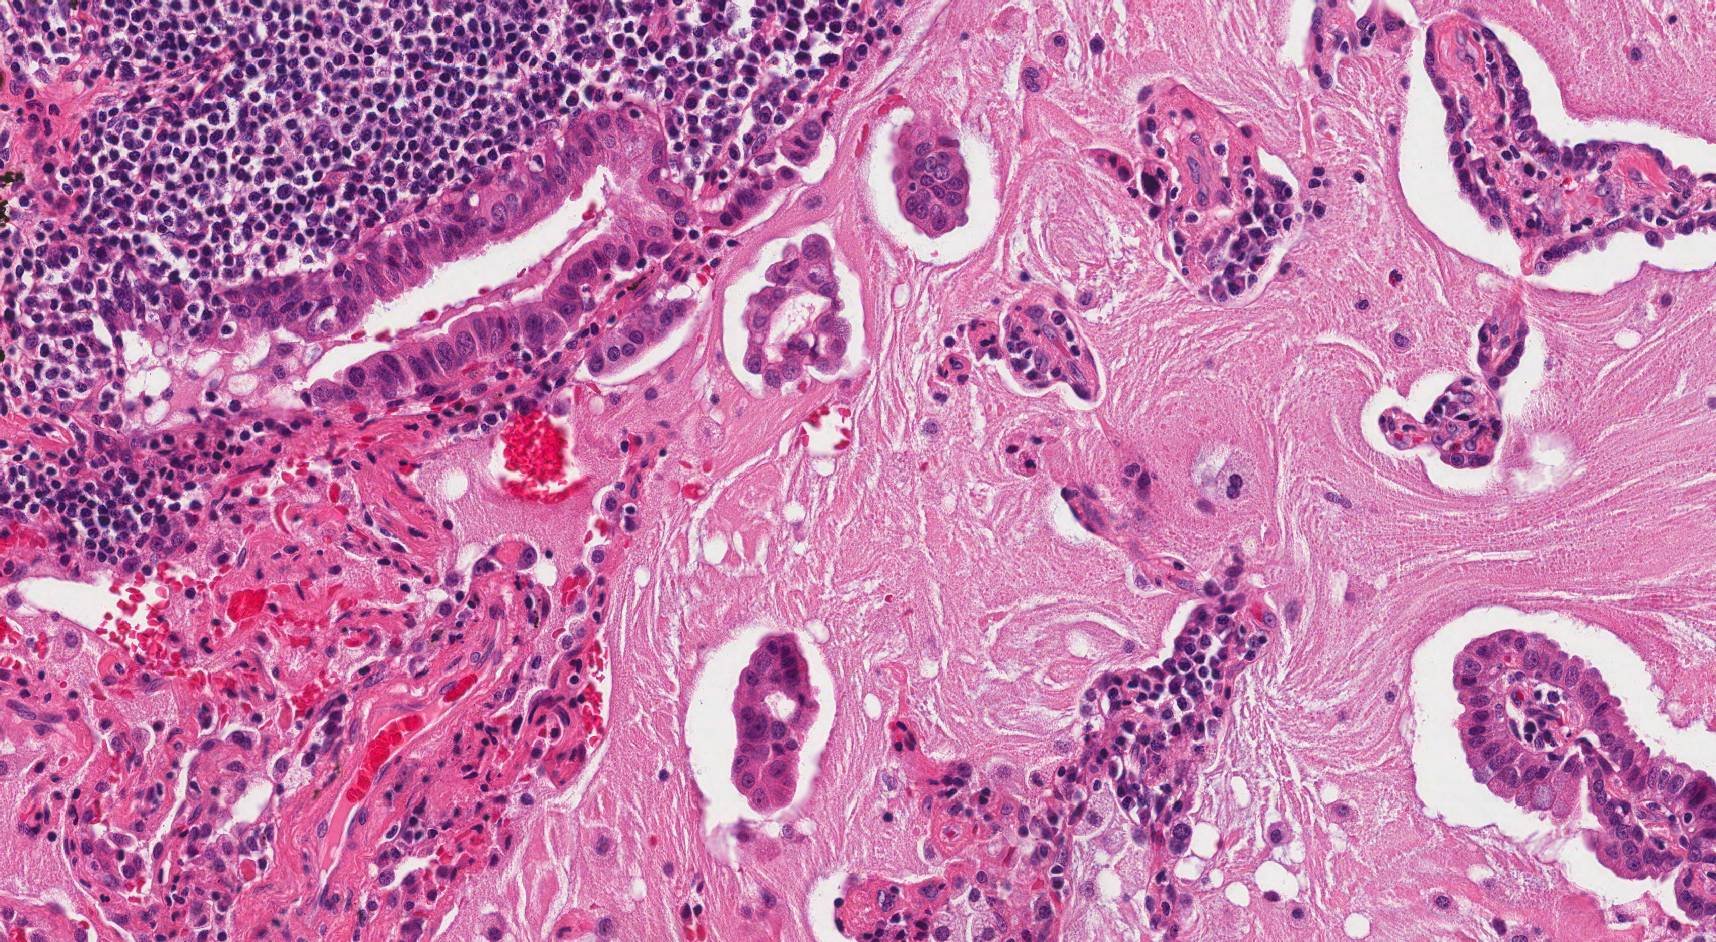stas: (742, 232, 851, 385), (731, 634, 818, 809), (890, 123, 973, 235)
